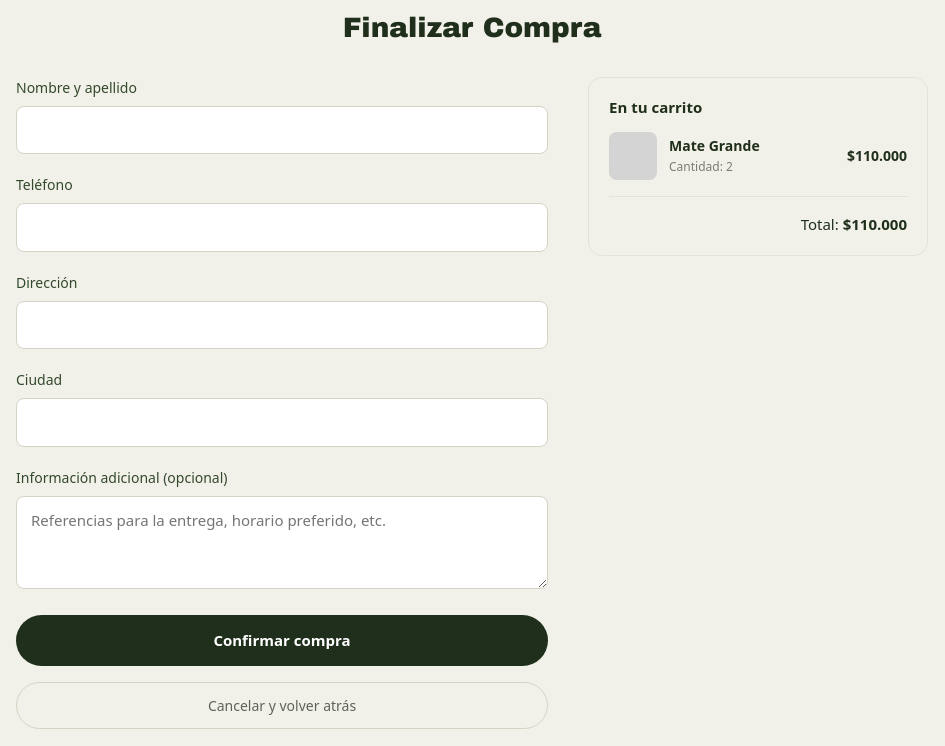
Checkout › crea la orden, muestra el ID y vacía el carrito
In the field labelled "Nombre y apellido": (282, 130) 16,106 -> 548,154, type "Wanda Peralta"
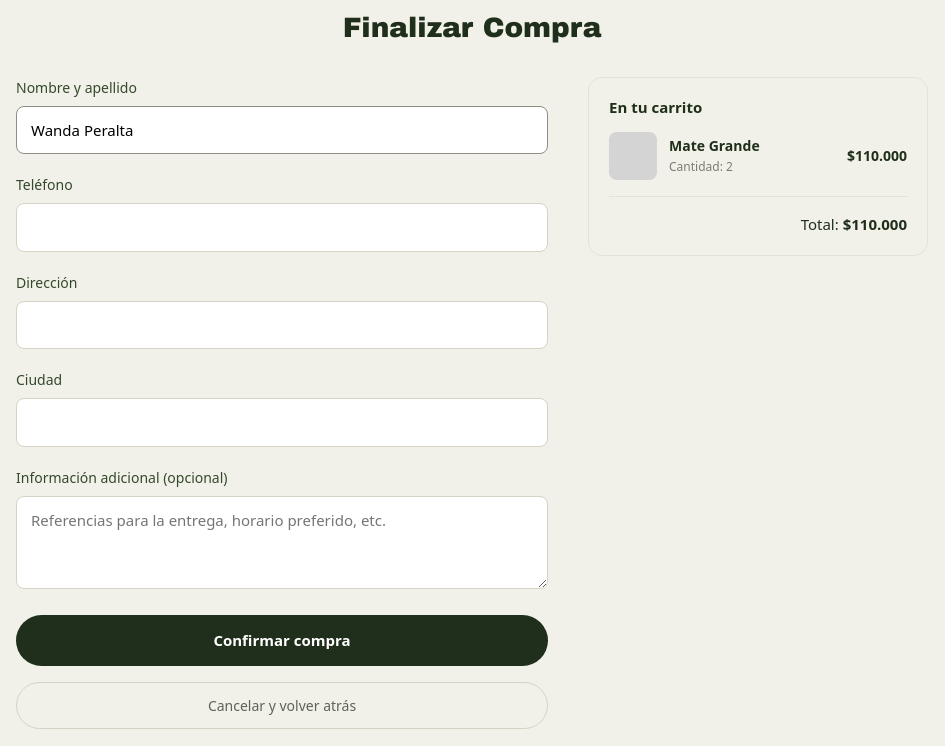
In the field labelled "Teléfono": (282, 227) 16,203 -> 548,252, type "1122334455"
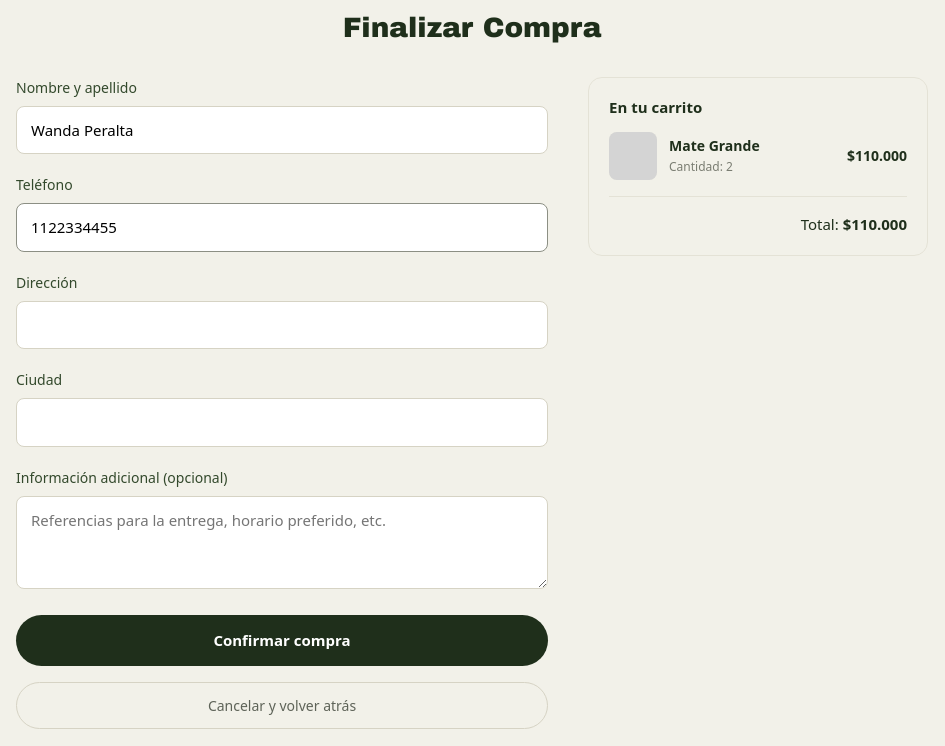
In the field labelled "Dirección": (282, 325) 16,301 -> 548,349, type "Av. Siempreviva 742"
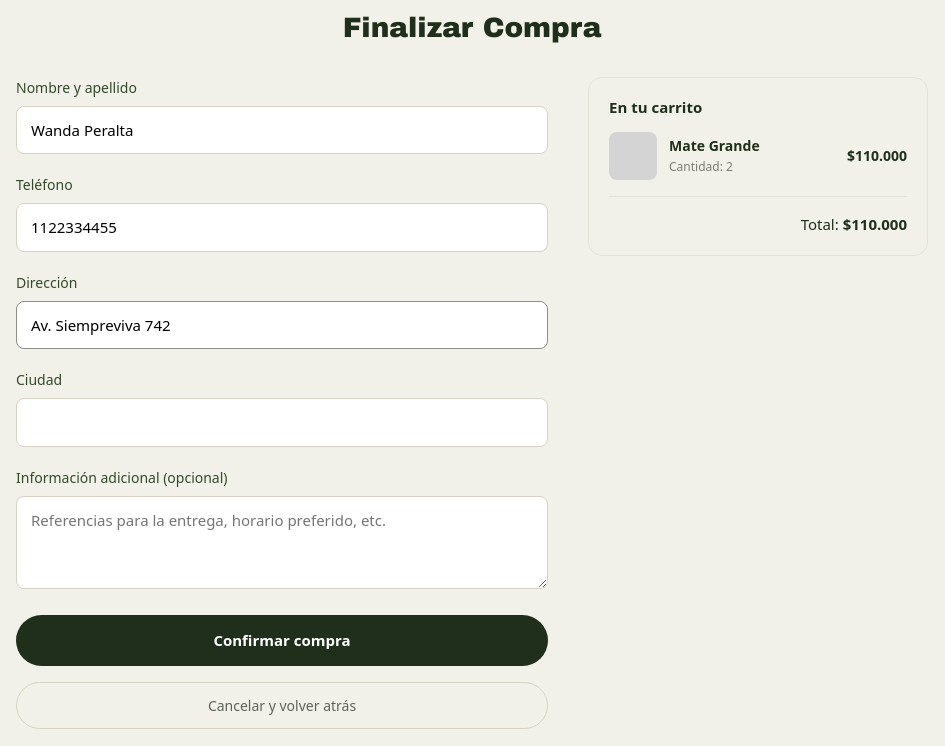
In the field labelled "Ciudad": (282, 422) 16,398 -> 548,447, type "Buenos Aires"
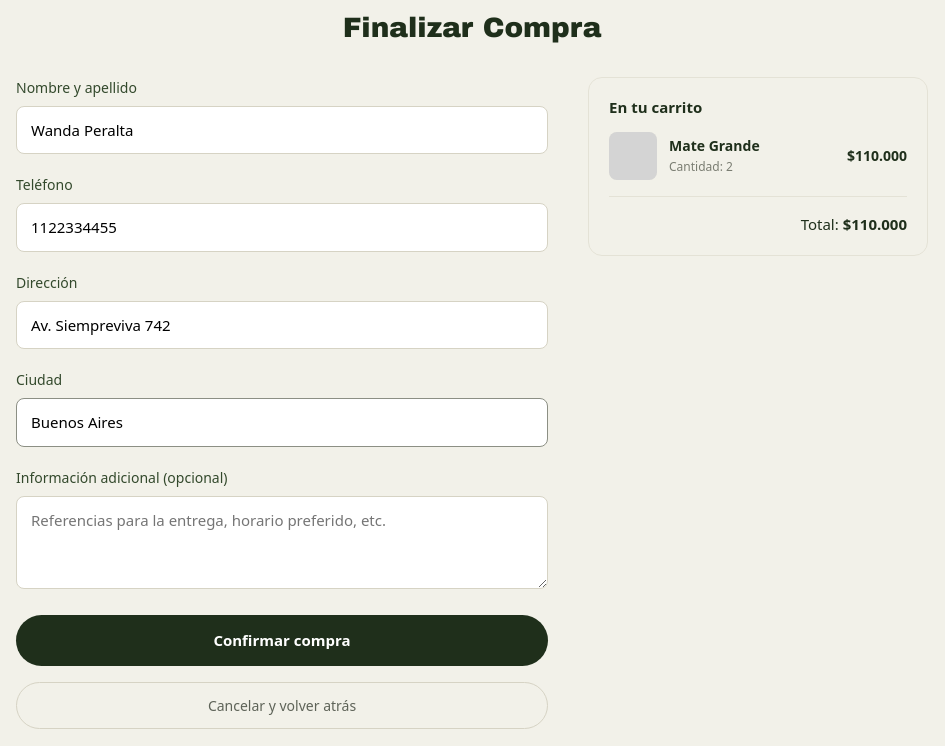
Click the button "Confirmar compra": (282, 640) 16,615 -> 548,666
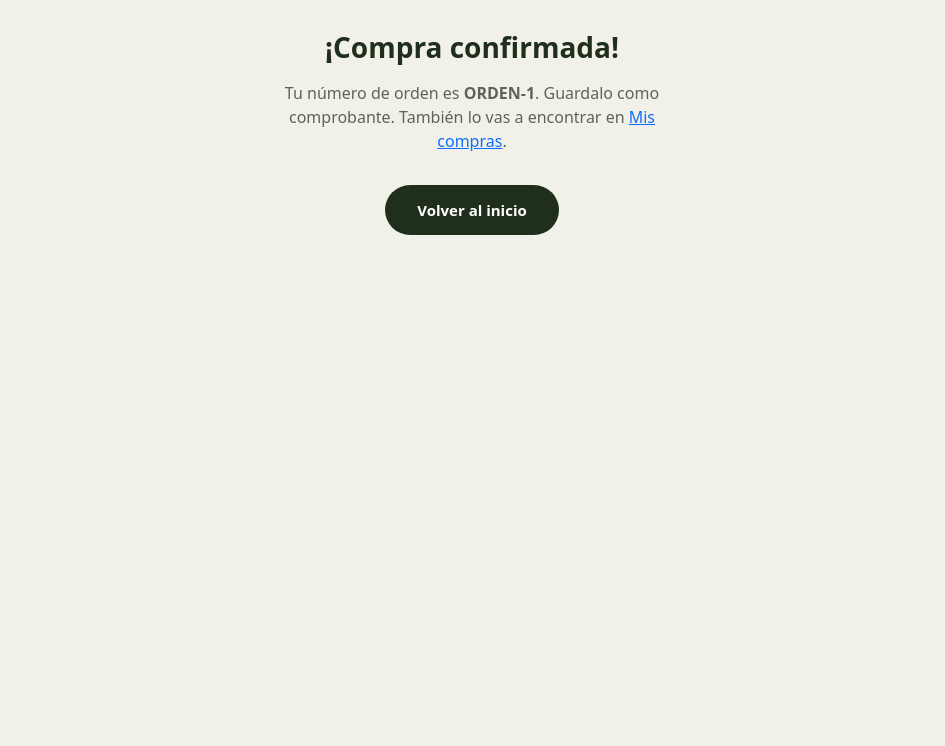
Expected: the text "ORDEN-1" is shown, 464,82 -> 535,104
